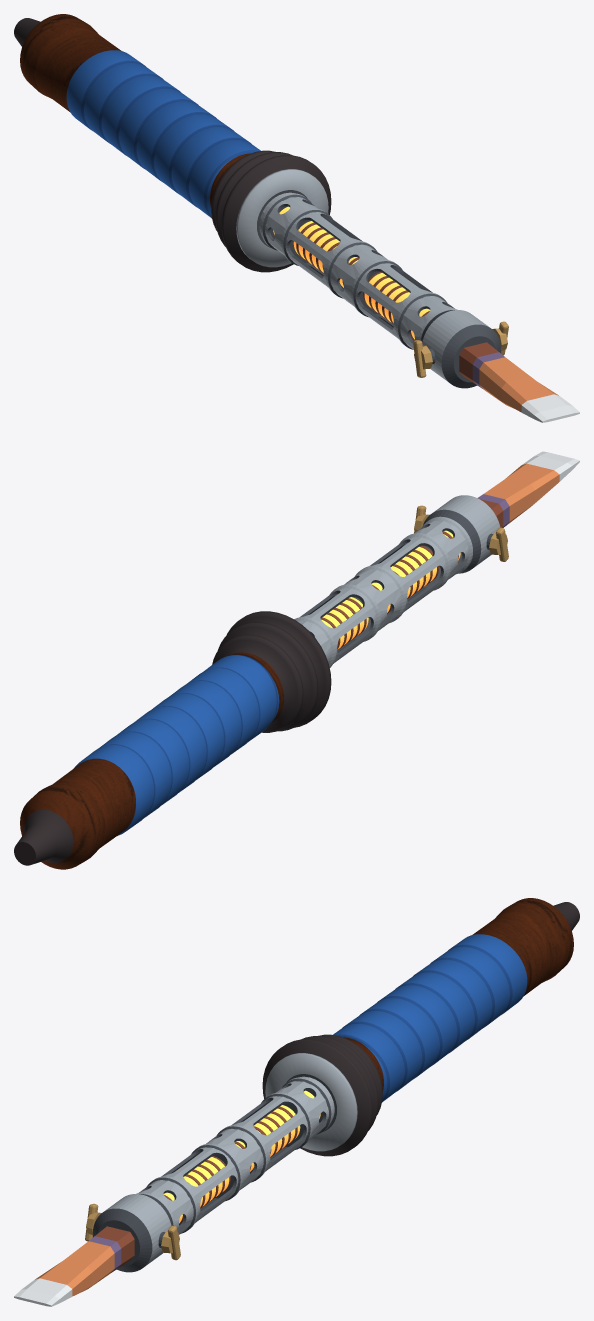
File: weapon_solder_90s.glb
3 renders of one model, top to bottom at view 1: azimuth 30°, elevation 25°; view 2: azimuth 150°, elevation 25°; view 3: azimuth 330°, elevation 25°, orthographic.
Parts seen in each view (by area): view 1: EPSN-40; view 2: EPSN-40; view 3: EPSN-40.
Part boxes in pixels (x1=…): EPSN-40: x1=14, y1=14, x2=579, y2=422; EPSN-40: x1=14, y1=451, x2=579, y2=869; EPSN-40: x1=14, y1=898, x2=579, y2=1306.
Size of the model in its own units: 0.039 by 0.039 by 0.337.
12 materials, 1 textured.
